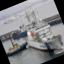fishing boat: (3, 36, 30, 57)
